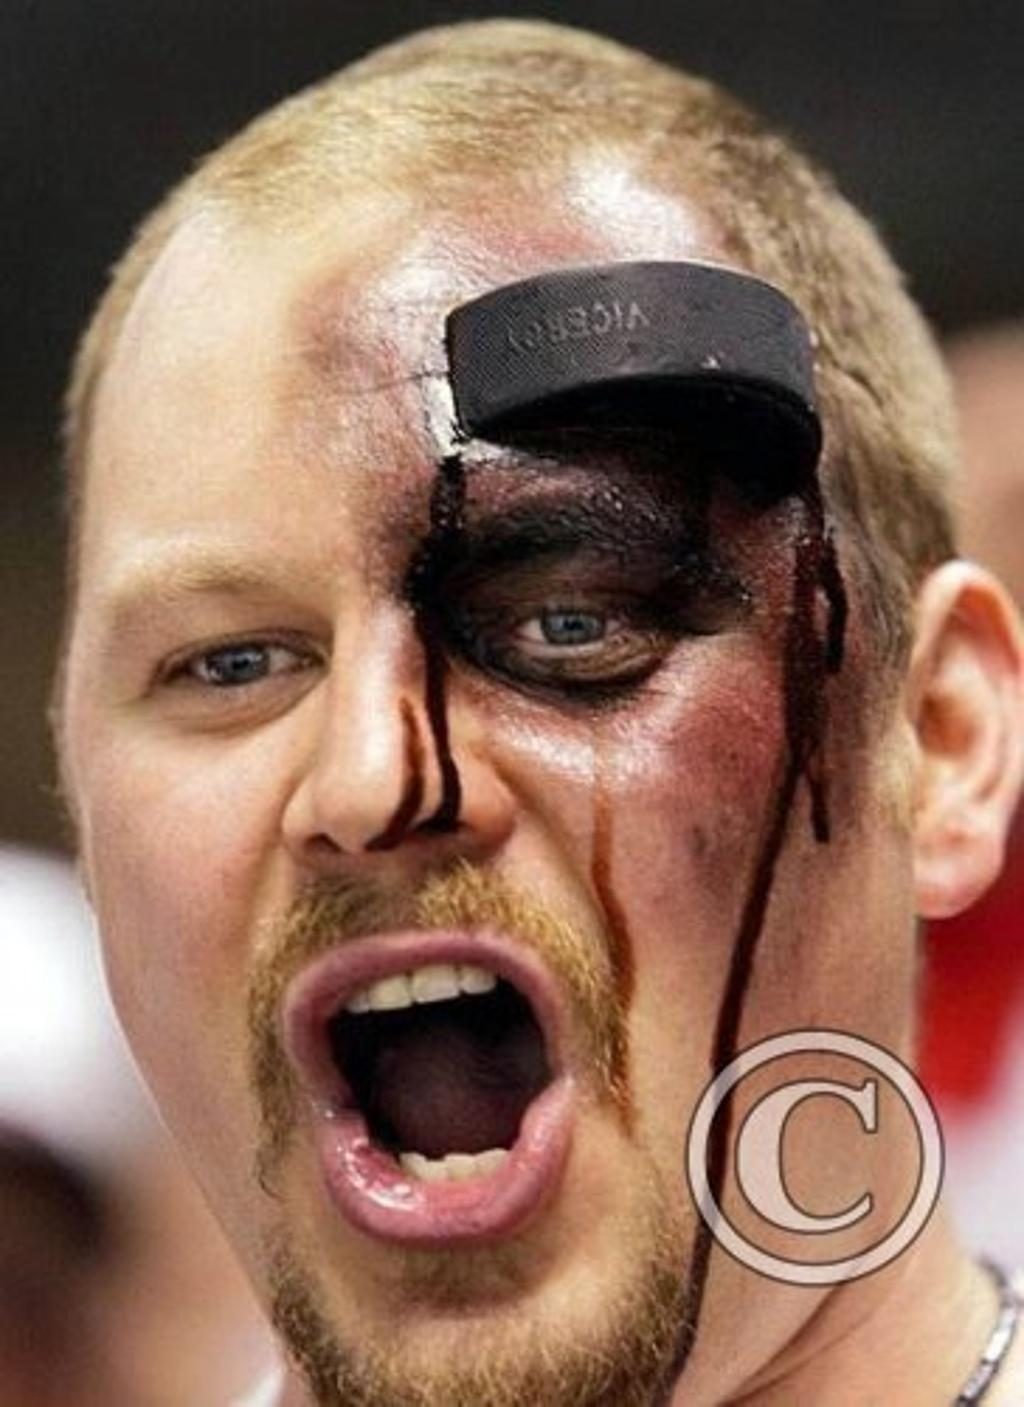face: (63, 118, 914, 1407)
